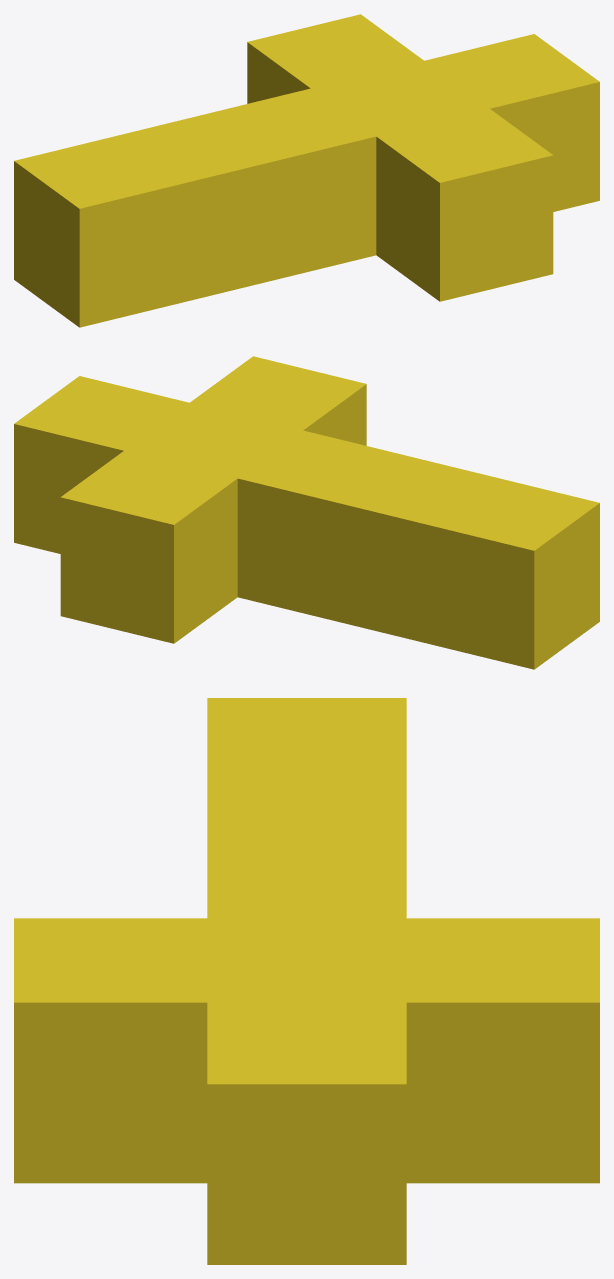
Rendered from Cross.fbx.
3 renders of one model, top to bottom at view 1: azimuth 30°, elevation 25°; view 2: azimuth 150°, elevation 25°; view 3: azimuth 270°, elevation 25°, orthographic. The views are drawn at different scales.
Parts seen in each view (by area): view 1: Cube.005; view 2: Cube.005; view 3: Cube.005.
Boxes of the visible parts, <box> form: Cube.005: <box>14,14,599,327</box>; Cube.005: <box>14,356,599,669</box>; Cube.005: <box>14,698,599,1264</box>.
Bounding box in the file's own units: 115 × 25 × 73.47.
